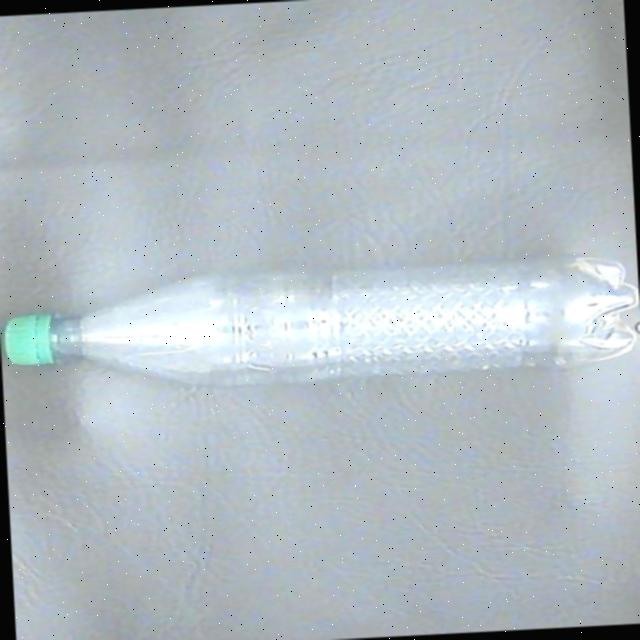bottle: (5, 248, 640, 406)
cap: (4, 308, 64, 369)
